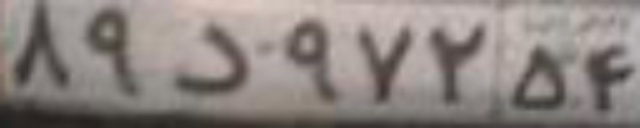2: (426, 17, 489, 104)
4: (581, 43, 637, 111)
5: (508, 42, 568, 108)
7: (354, 22, 411, 104)
8: (10, 0, 77, 86)
9: (83, 9, 144, 95), (282, 20, 339, 102)
dal: (169, 20, 254, 93)
